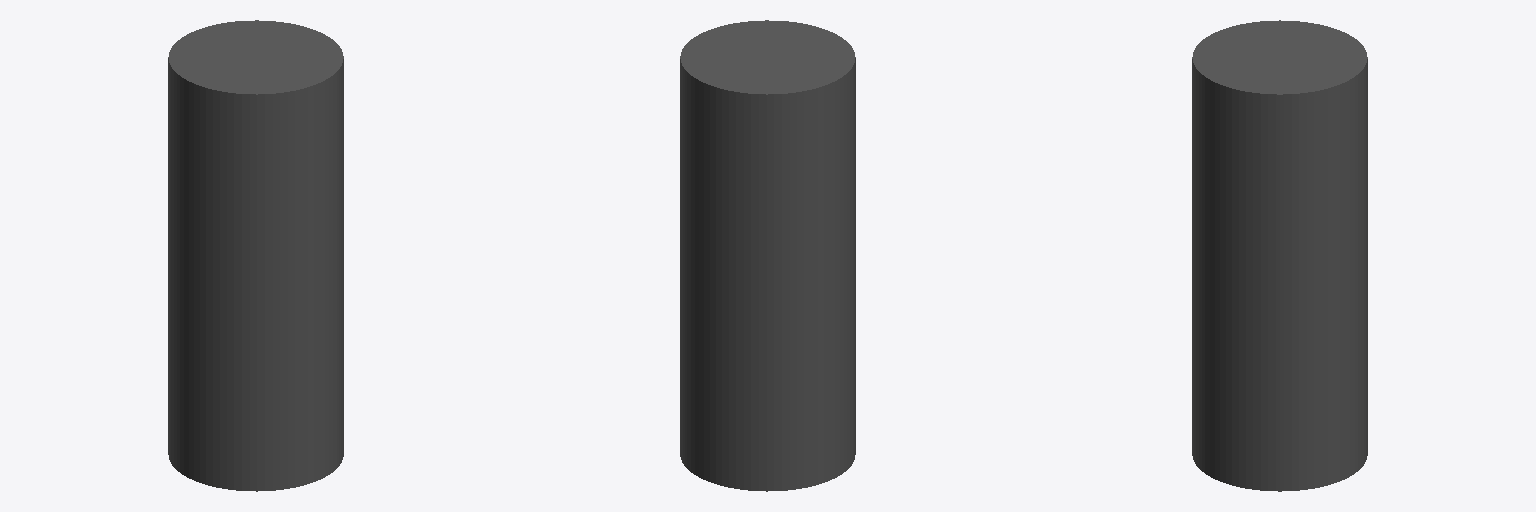
The robot description file, URDF, robot "panda":
<?xml version="1.0" encoding="utf-8"?>
<!-- =================================================================================== -->
<!-- |    This document was autogenerated by xacro from ../../../franka_panda_description/robots/panda_arm.urdf.xacro | -->
<!-- |    EDITING THIS FILE BY HAND IS NOT RECOMMENDED                                 | -->
<!-- =================================================================================== -->
<robot name="panda">
  <material name="panda_white">
    <color rgba="1 1 1 1"/>
  </material>
  <material name="panda_gray">
    <color rgba="0.4 0.4 0.4 1"/>
  </material>
  <material name="silver">
    <color rgba="0.5 0.5 0.5 1"/>
  </material>
  <link name="omron_base_link">
    <contact>
      <stiffness value="1e5"/>
      <damping value="1e3"/>
      <lateral_friction value="0.1"/>
      <rolling_friction value="0.0"/>
    </contact>
    <inertial>
      <mass value="52.9101052160097"/>
      <origin xyz="0 0 0" rpy="1.5708 0.0 0.0"/>
      <inertia ixx="2.78321475990223" ixy="1.02013636219535E-03" ixz="-0.544719331016329" iyy="3.24941132525702" iyz="7.51942241521894E-03" izz="1.33602142044359"/>
    </inertial>
    <visual>
      <origin xyz="0.0 0.0 0.0" rpy="0 0 0"/>
      <geometry>
        <mesh filename="meshes/visual/base.obj"/>
      </geometry>
    </visual>
    <collision>
      <origin xyz="0.0 0.0 0.0" rpy="0 0 0"/>
      <geometry>
        <mesh filename="meshes/collision/base.stl"/>
      </geometry>
    </collision>
  </link>
  <link name="pedestal_link">
    <visual>
      <geometry>
        <mesh filename="meshes/visual/pedestal.obj"/>
      </geometry>
      <material name="panda_gray"/>
    </visual>
    <collision>
      <geometry>
        <mesh filename="meshes/collision/pedestal.stl"/>
      </geometry>
    </collision>
  </link>
  <link name="panda_link0">
    <visual>
      <geometry>
        <mesh filename="meshes/visual/link0.dae"/>
      </geometry>
      <material name="panda_gray"/>
    </visual>
    <collision>
      <geometry>
        <mesh filename="meshes/collision/link0.stl"/>
      </geometry>
    </collision>
  </link>
  <joint name="base_joint0" type="fixed">
    <origin rpy="0 0 0" xyz="0 -0.01 0.2"/>
    <parent link="omron_base_link"/>
    <child link="pedestal_link"/>
    <axis xyz="0 0 0"/>
  </joint>
  <joint name="base_joint1" type="fixed">
    <origin rpy="0 0 0" xyz="0.05 0.02 0.6"/>
    <parent link="pedestal_link"/>
    <child link="panda_link0"/>
    <axis xyz="0 0 0"/>
  </joint>
  <link name="panda_link1">
    <visual>
      <geometry>
        <mesh filename="meshes/visual/link1.dae"/>
      </geometry>
      <material name="panda_white"/>
    </visual>
    <collision>
      <geometry>
        <mesh filename="meshes/collision/link1.stl"/>
      </geometry>
    </collision>
    <inertial>
      <origin rpy="0 0 0" xyz="3.875e-03 2.081e-03 -0.1750"/>
      <mass value="4.970684"/>
      <inertia ixx="7.0337e-01" ixy="-1.3900e-04" ixz="6.7720e-03" iyy="7.0661e-01" iyz="1.9169e-02" izz="9.1170e-03"/>
    </inertial>
  </link>
  <joint name="panda_joint1" type="revolute">
    <safety_controller k_position="100.0" k_velocity="40.0" soft_lower_limit="-2.8973" soft_upper_limit="2.8973"/>
    <origin rpy="0 0 0" xyz="0 0 0.333"/>
    <parent link="panda_link0"/>
    <child link="panda_link1"/>
    <axis xyz="0 0 1"/>
    <limit effort="87" lower="-2.8973" upper="2.8973" velocity="2.1750"/>
    <dynamics damping="10.0" friction="5.0"/>
  </joint>
  <link name="panda_link2">
    <visual>
      <geometry>
        <mesh filename="meshes/visual/link2.dae"/>
      </geometry>
      <material name="panda_white"/>
    </visual>
    <collision>
      <geometry>
        <mesh filename="meshes/collision/link2.stl"/>
      </geometry>
    </collision>
    <inertial>
      <origin rpy="0 0 0" xyz="-3.141e-03 -2.872e-02 3.495e-03"/>
      <mass value="0.646926"/>
      <inertia ixx="7.9620e-03" ixy="-3.9250e-03" ixz="1.0254e-02" iyy="2.8110e-02" iyz="7.0400e-04" izz="2.5995e-02"/>
    </inertial>
  </link>
  <joint name="panda_joint2" type="revolute">
    <safety_controller k_position="100.0" k_velocity="40.0" soft_lower_limit="-1.7628" soft_upper_limit="1.7628"/>
    <origin rpy="-1.57079632679 0 0" xyz="0 0 0"/>
    <parent link="panda_link1"/>
    <child link="panda_link2"/>
    <axis xyz="0 0 1"/>
    <limit effort="87" lower="-1.7628" upper="1.7628" velocity="2.1750"/>
    <dynamics damping="5.0" friction="2.0"/>
  </joint>
  <link name="panda_link3">
    <visual>
      <geometry>
        <mesh filename="meshes/visual/link3.dae"/>
      </geometry>
      <material name="panda_white"/>
    </visual>
    <collision>
      <geometry>
        <mesh filename="meshes/collision/link3.stl"/>
      </geometry>
    </collision>
    <inertial>
      <origin rpy="0 0 0" xyz="2.7518e-02 3.9252e-02 -6.6502e-02"/>
      <mass value="3.228604"/>
      <inertia ixx="3.7242e-02" ixy="-4.7610e-03" ixz="-1.1396e-02" iyy="3.6155e-02" iyz="-1.2805e-02" izz="1.0830e-02"/>
    </inertial>
  </link>
  <joint name="panda_joint3" type="revolute">
    <safety_controller k_position="100.0" k_velocity="40.0" soft_lower_limit="-2.8973" soft_upper_limit="2.8973"/>
    <origin rpy="1.57079632679 0 0" xyz="0 -0.316 0"/>
    <parent link="panda_link2"/>
    <child link="panda_link3"/>
    <axis xyz="0 0 1"/>
    <limit effort="87" lower="-2.8973" upper="2.8973" velocity="2.1750"/>
    <dynamics damping="5.0" friction="2.0"/>
  </joint>
  <link name="panda_link4">
    <visual>
      <geometry>
        <mesh filename="meshes/visual/link4.dae"/>
      </geometry>
      <material name="panda_white"/>
    </visual>
    <collision>
      <geometry>
        <mesh filename="meshes/collision/link4.stl"/>
      </geometry>
    </collision>
    <inertial>
      <origin rpy="0 0 0" xyz="-5.317e-02 1.04419e-01 2.7454e-02"/>
      <mass value="3.587895"/>
      <inertia ixx="2.5853e-02" ixy="7.7960e-03" ixz="-1.3320e-03" iyy="1.9552e-02" iyz="8.6410e-03" izz="2.8323e-02"/>
    </inertial>
  </link>
  <joint name="panda_joint4" type="revolute">
    <safety_controller k_position="100.0" k_velocity="40.0" soft_lower_limit="-3.0718" soft_upper_limit="-0.0698"/>
    <origin rpy="1.57079632679 0 0" xyz="0.0825 0 0"/>
    <parent link="panda_link3"/>
    <child link="panda_link4"/>
    <axis xyz="0 0 1"/>
    <limit effort="87" lower="-3.0718" upper="-0.0698" velocity="2.1750"/>
    <dynamics damping="1.0" friction="0.5"/>
  </joint>
  <link name="panda_link5">
    <visual>
      <geometry>
        <mesh filename="meshes/visual/link5.dae"/>
      </geometry>
      <material name="panda_white"/>
    </visual>
    <collision>
      <geometry>
        <mesh filename="meshes/collision/link5.stl"/>
      </geometry>
    </collision>
    <inertial>
      <origin rpy="0 0 0" xyz="-1.1953e-02 4.1065e-02 -3.8437e-02"/>
      <mass value="1.225946"/>
      <inertia ixx="3.5549e-02" ixy="-2.1170e-03" ixz="-4.0370e-03" iyy="2.9474e-02" iyz="2.2900e-04" izz="8.6270e-03"/>
    </inertial>
  </link>
  <joint name="panda_joint5" type="revolute">
    <safety_controller k_position="100.0" k_velocity="40.0" soft_lower_limit="-2.8973" soft_upper_limit="2.8973"/>
    <origin rpy="-1.57079632679 0 0" xyz="-0.0825 0.384 0"/>
    <parent link="panda_link4"/>
    <child link="panda_link5"/>
    <axis xyz="0 0 1"/>
    <limit effort="12" lower="-2.8973" upper="2.8973" velocity="2.6100"/>
    <dynamics damping="2.0" friction="1.0"/>
  </joint>
  <link name="panda_link6">
    <visual>
      <geometry>
        <mesh filename="meshes/visual/link6.dae"/>
      </geometry>
      <material name="panda_white"/>
    </visual>
    <collision>
      <geometry>
        <mesh filename="meshes/collision/link6.stl"/>
      </geometry>
    </collision>
    <inertial>
      <origin rpy="0 0 0" xyz="6.0149e-02 -1.4117e-02 -1.0517e-02"/>
      <mass value="1.666555"/>
      <inertia ixx="1.9640e-03" ixy="1.0900e-04" ixz="-1.1580e-03" iyy="4.3540e-03" iyz="3.4100e-04" izz="5.4330e-03"/>
    </inertial>
  </link>
  <joint name="panda_joint6" type="revolute">
    <safety_controller k_position="100.0" k_velocity="40.0" soft_lower_limit="-0.0175" soft_upper_limit="3.7525"/>
    <origin rpy="1.57079632679 0 0" xyz="0 0 0"/>
    <parent link="panda_link5"/>
    <child link="panda_link6"/>
    <axis xyz="0 0 1"/>
    <limit effort="12" lower="-0.0175" upper="3.7525" velocity="2.6100"/>
    <dynamics damping="1.0" friction="0.5"/>
  </joint>
  <link name="panda_link7">
    <visual>
      <geometry>
        <mesh filename="meshes/visual/link7.dae"/>
      </geometry>
      <material name="panda_gray"/>
    </visual>
    <collision>
      <geometry>
        <mesh filename="meshes/collision/link7.stl"/>
      </geometry>
    </collision>
    <inertial>
      <origin rpy="0 0 0" xyz="1.0517e-02 -4.252e-03 6.1597e-02"/>
      <mass value="7.35522e-01"/>
      <inertia ixx="1.2516e-02" ixy="-4.2800e-04" ixz="-1.1960e-03" iyy="1.0027e-02" iyz="-7.4100e-04" izz="4.8150e-03"/>
    </inertial>
  </link>
  <joint name="panda_joint7" type="revolute">
    <safety_controller k_position="100.0" k_velocity="40.0" soft_lower_limit="-2.8973" soft_upper_limit="2.8973"/>
    <origin rpy="1.57079632679 0 0" xyz="0.088 0 0"/>
    <parent link="panda_link6"/>
    <child link="panda_link7"/>
    <axis xyz="0 0 1"/>
    <limit effort="12" lower="-2.8973" upper="2.8973" velocity="2.6100"/>
    <dynamics damping="1.0" friction="0.5"/>
  </joint>
  <link name="panda_link8">
    <inertial>
      <origin rpy="0 0 0" xyz="0 0 0"/>
      <mass value="0.0"/>
      <inertia ixx="0.001" ixy="0.0" ixz="0.0" iyy="0.001" iyz="0.0" izz="0.001"/>
    </inertial>
  </link>
  <joint name="panda_joint8" type="fixed">
    <origin rpy="0 0 0" xyz="0 0 0.107"/>
    <parent link="panda_link7"/>
    <child link="panda_link8"/>
    <axis xyz="0 0 0"/>
  </joint>
  <joint name="panda_hand_joint" type="fixed">
    <parent link="panda_link8"/>
    <child link="panda_hand"/>
    <origin rpy="0 0 -0.785398163397" xyz="0 0 0"/>
  </joint>
  <link name="panda_hand">
    <visual>
      <origin rpy="0 0 0" xyz="0 0 0"/>
      <geometry>
        <mesh filename="meshes/visual/hand.dae"/>
      </geometry>
    </visual>
    <collision>
      <origin rpy="0 0 0" xyz="0 0 0"/>
      <geometry>
        <mesh filename="meshes/collision/hand.stl"/>
      </geometry>
    </collision>
  </link>
  <link name="panda_leftfinger">
    <visual>
      <origin rpy="0 0 0" xyz="0 0 0"/>
      <geometry>
        <mesh filename="meshes/visual/finger.dae"/>
      </geometry>
    </visual>
    <collision>
      <geometry>
        <mesh filename="meshes/collision/finger.stl"/>
      </geometry>
    </collision>
  </link>
  <link name="panda_rightfinger">
    <visual>
      <origin rpy="0 0 3.1415927" xyz="0 0 0"/>
      <geometry>
        <mesh filename="meshes/visual/finger.dae"/>
      </geometry>
    </visual>
    <collision>
      <geometry>
        <mesh filename="meshes/collision/finger.stl"/>
      </geometry>
    </collision>
  </link>
  <joint name="panda_finger_joint1" type="prismatic">
    <parent link="panda_hand"/>
    <child link="panda_leftfinger"/>
    <origin rpy="0 0 0" xyz="0 0 0.0584"/>
    <axis xyz="0 1 0"/>
    <limit effort="10" lower="-0.001" upper="0.04" velocity="0.3"/>
  </joint>
  <joint name="panda_finger_joint2" type="prismatic">
    <parent link="panda_hand"/>
    <child link="panda_rightfinger"/>
    <origin rpy="0 0 0" xyz="0 0 0.0584"/>
    <axis xyz="0 -1 0"/>
    <limit effort="10" lower="-0.001" upper="0.04" velocity="0.3"/>
  </joint>
</robot>

--- Facts derived from the render (not from the file) ---
Views: 3 orthographic renders of the robot side by side, from view 1: azimuth 30°, elevation 25°; view 2: azimuth 150°, elevation 25°; view 3: azimuth 270°, elevation 25°.
Model panda with 14 links and 13 joints (7 revolute, 2 prismatic, 4 fixed), rooted at omron_base_link, posed all joints at 0 but 1 set to mid-range because 0 is outside their limits (panda_joint4 = -1.57).
Visible links, largest first — view 1: pedestal_link; view 2: pedestal_link; view 3: pedestal_link.
Link boxes in pixels (left/top/right/bottom): pedestal_link: left=168, top=20, right=343, bottom=491; pedestal_link: left=680, top=20, right=855, bottom=491; pedestal_link: left=1192, top=20, right=1367, bottom=491.
Bounding box of the posed robot: 0.24 × 0.2399 × 0.6 m (x, y, z).
1 mesh visuals loaded from 12 distinct referenced files (1 OBJ); not drawn: 12 (reference not matched to a file when rendering).